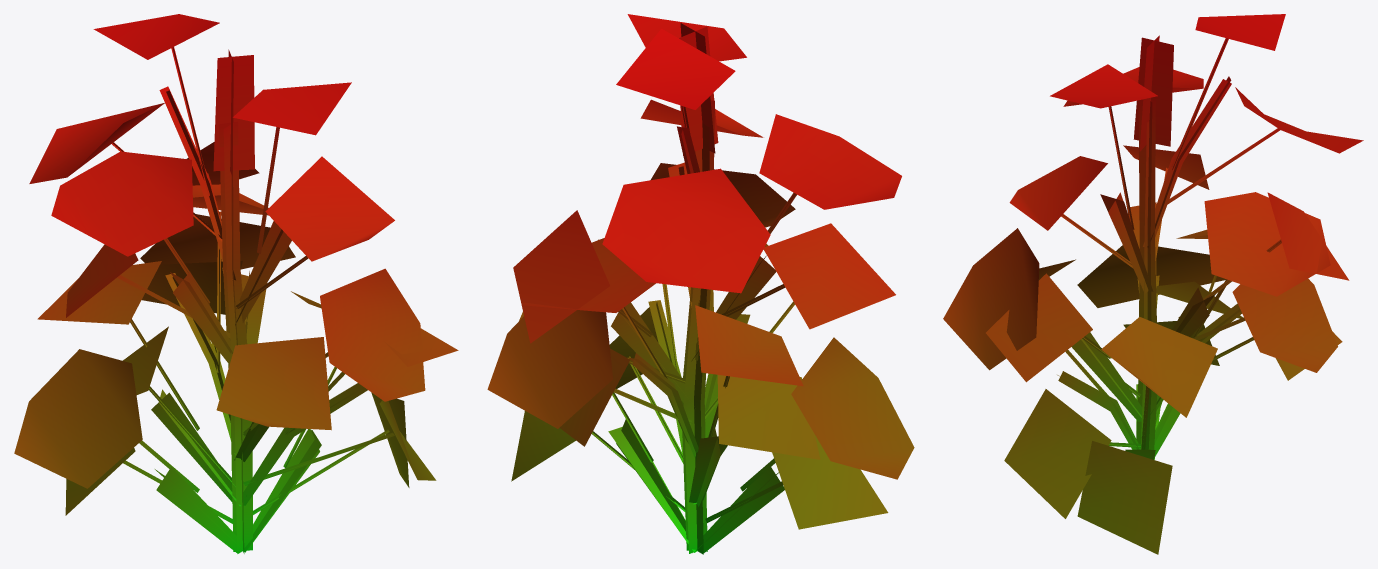
The model's file is Var5_LOD4.fbx.
3 views of the same model, side by side, from view 1: azimuth 30°, elevation 25°; view 2: azimuth 150°, elevation 25°; view 3: azimuth 270°, elevation 25° (orthographic). The views are drawn at different scales.
Visible parts, largest first — view 1: _db1e_Var5_LOD4; view 2: _db1e_Var5_LOD4; view 3: _db1e_Var5_LOD4.
Boxes of the visible parts, x1,y1,x2,y2 form: _db1e_Var5_LOD4: [14, 14, 458, 553]; _db1e_Var5_LOD4: [487, 14, 914, 554]; _db1e_Var5_LOD4: [943, 14, 1363, 554].
Bounding box in the file's own units: 74.36 × 96.65 × 76.68.
